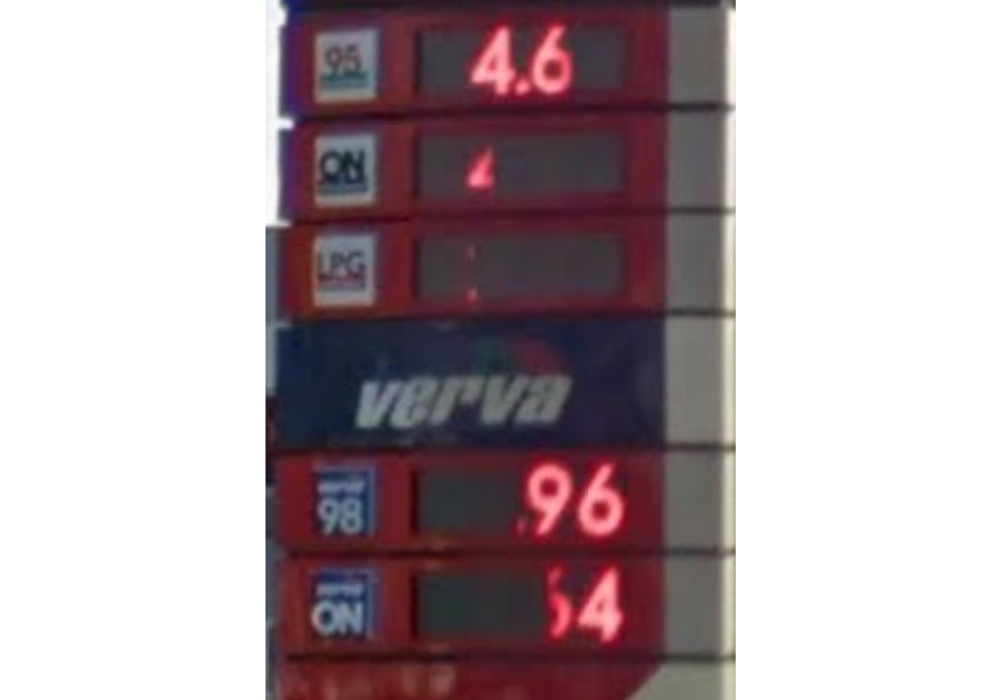LPG: (310, 231, 378, 313)
ON: (305, 571, 375, 645), (312, 130, 376, 208)
PB95: (311, 27, 377, 106)
PB98: (309, 460, 376, 541)
